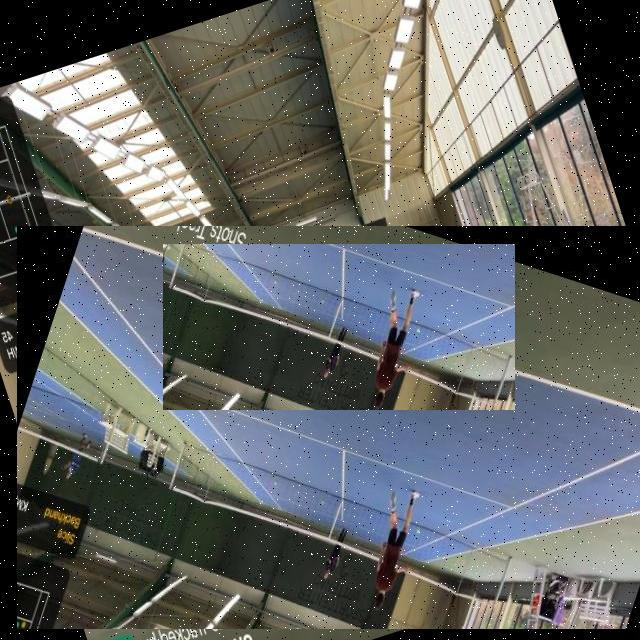court: (17, 226, 640, 629)
net: (163, 244, 515, 410)
player: (356, 238, 432, 372)
